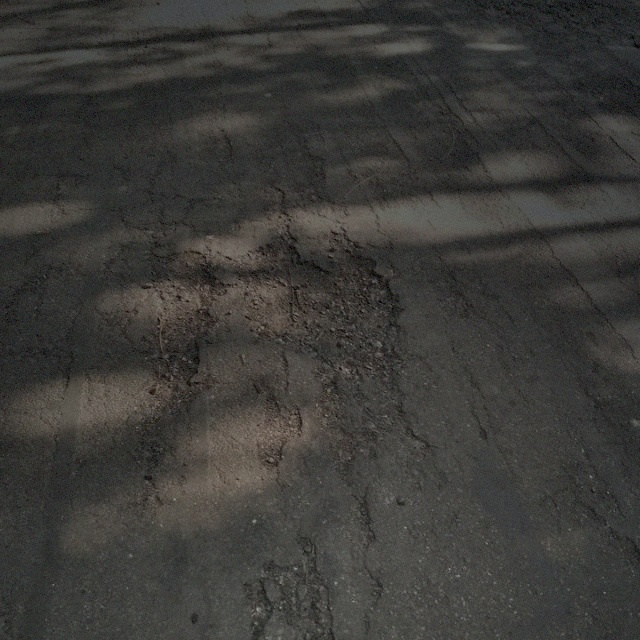pothole: (226, 228, 404, 377), (141, 246, 217, 401)
